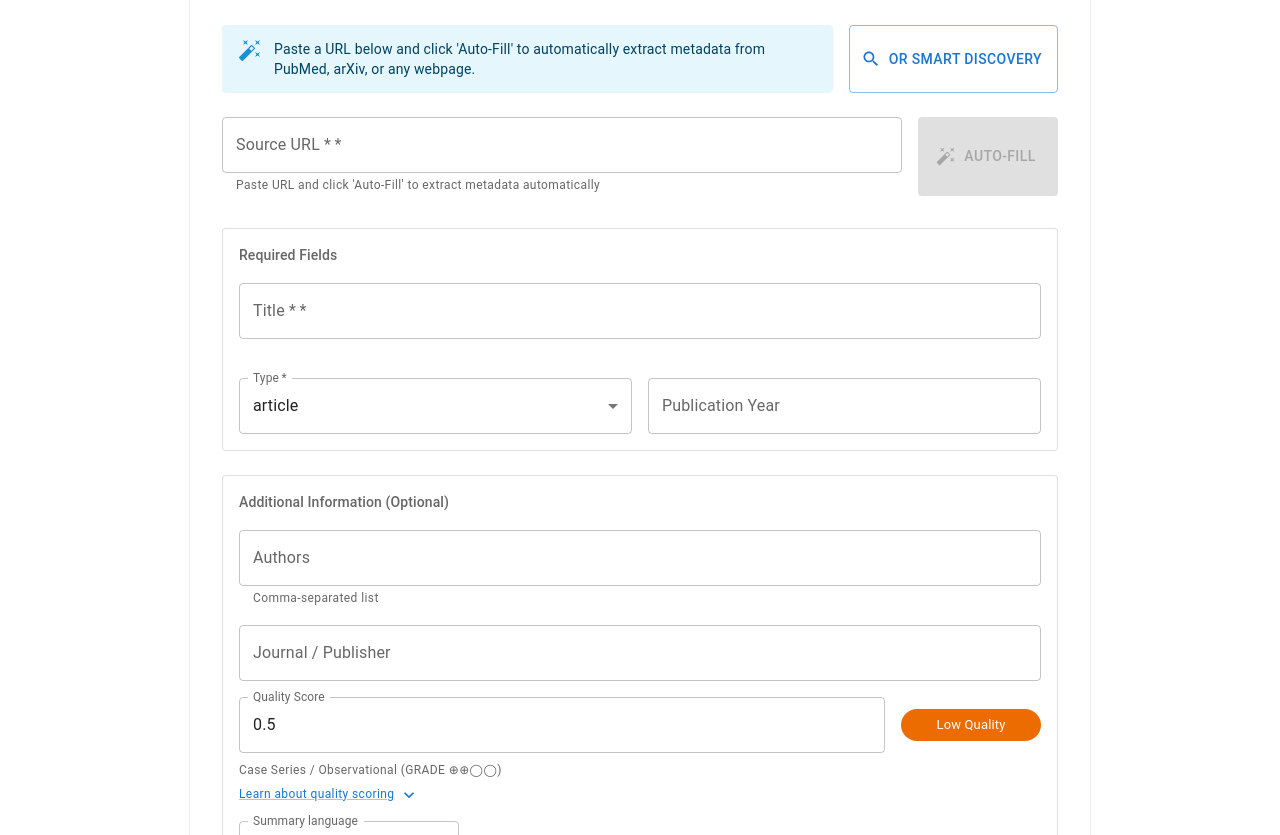
Scenario: CreateSourceView › Form rendering › fills multilingual summaries from URL metadata extraction
Type "https://example.com/article" into the field labelled "Source URL * *" at (562,145), box top-left (222, 117), bottom-right (902, 173)
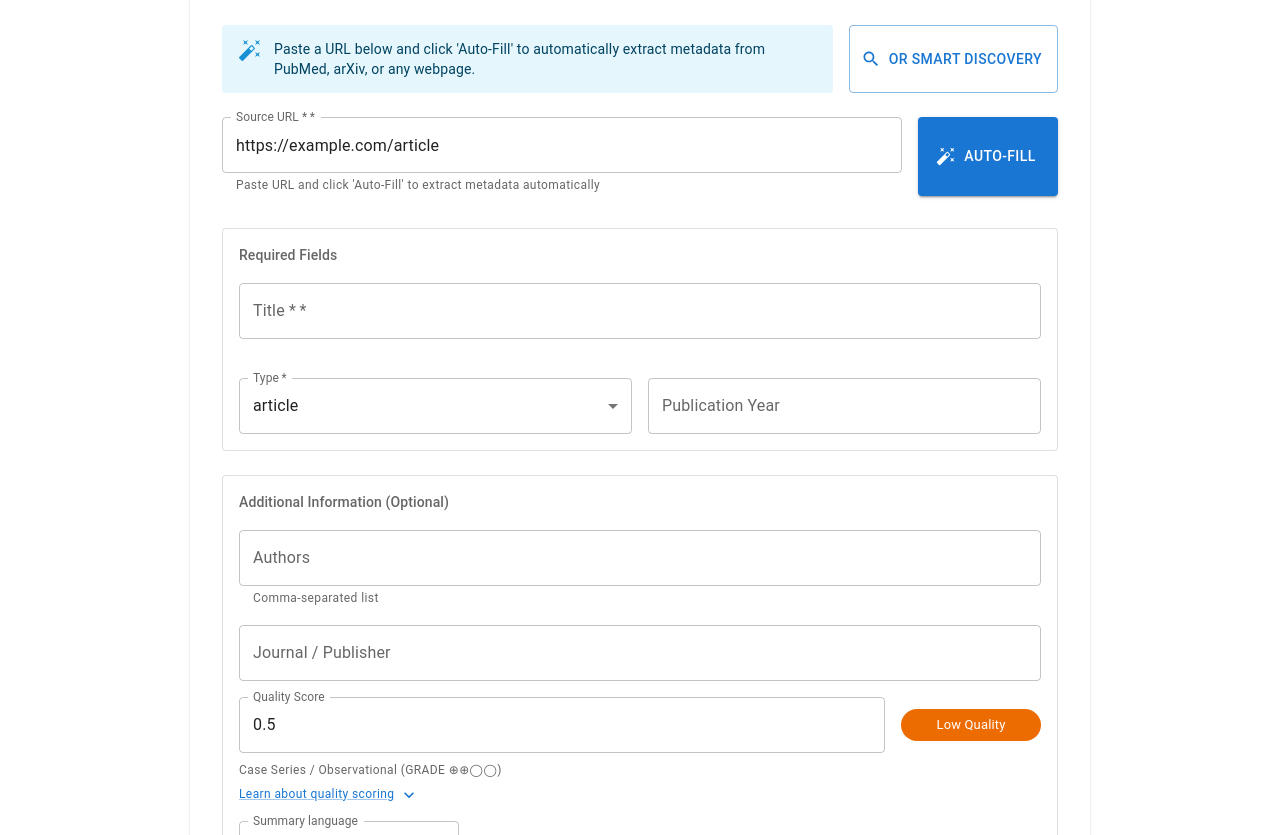
Click the button "Auto-Fill" at (988,156), box top-left (918, 117), bottom-right (1058, 196)
(page scrolled)
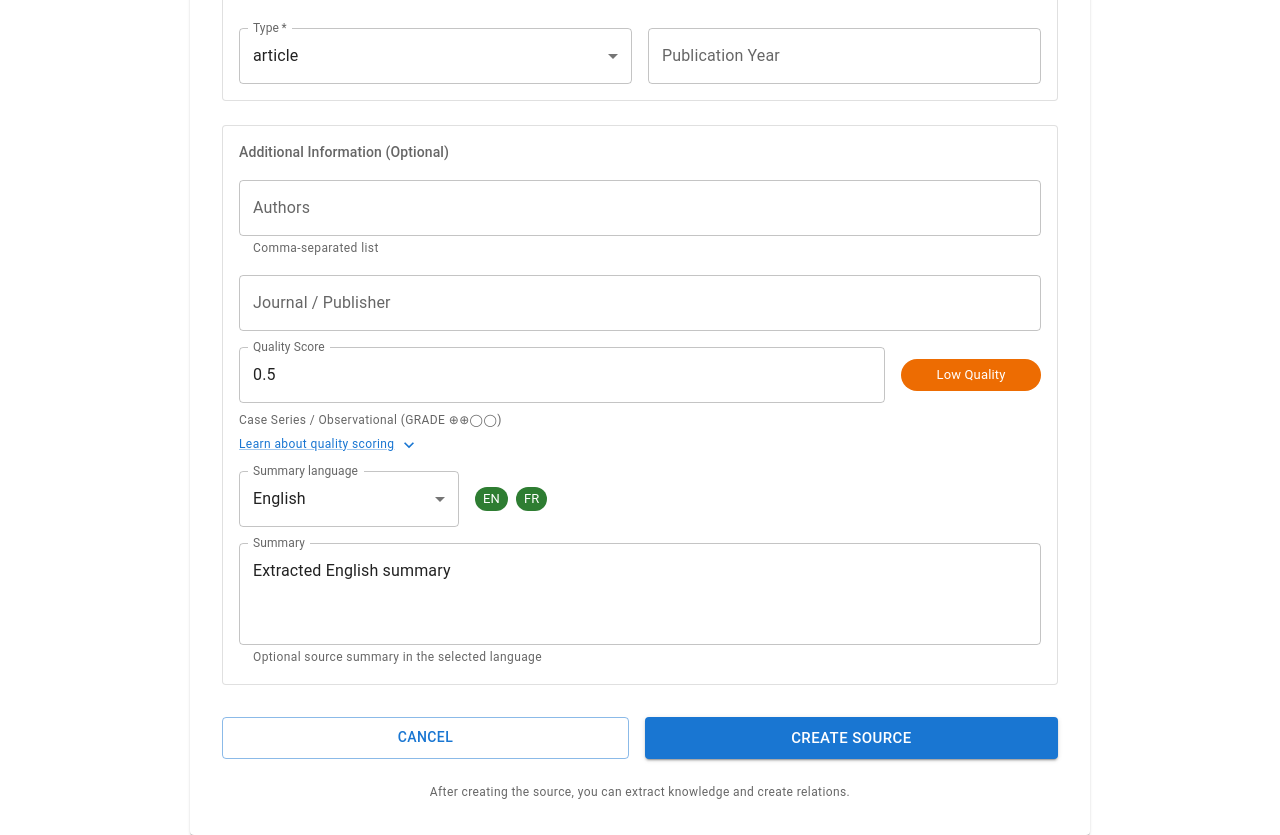
Now the text box labelled "Summary" holds "Extracted English summary", box top-left (253, 559), bottom-right (1027, 628)
Press the mouse on the dropdown named "summary language" at (279,499), box top-left (253, 489), bottom-right (306, 508)
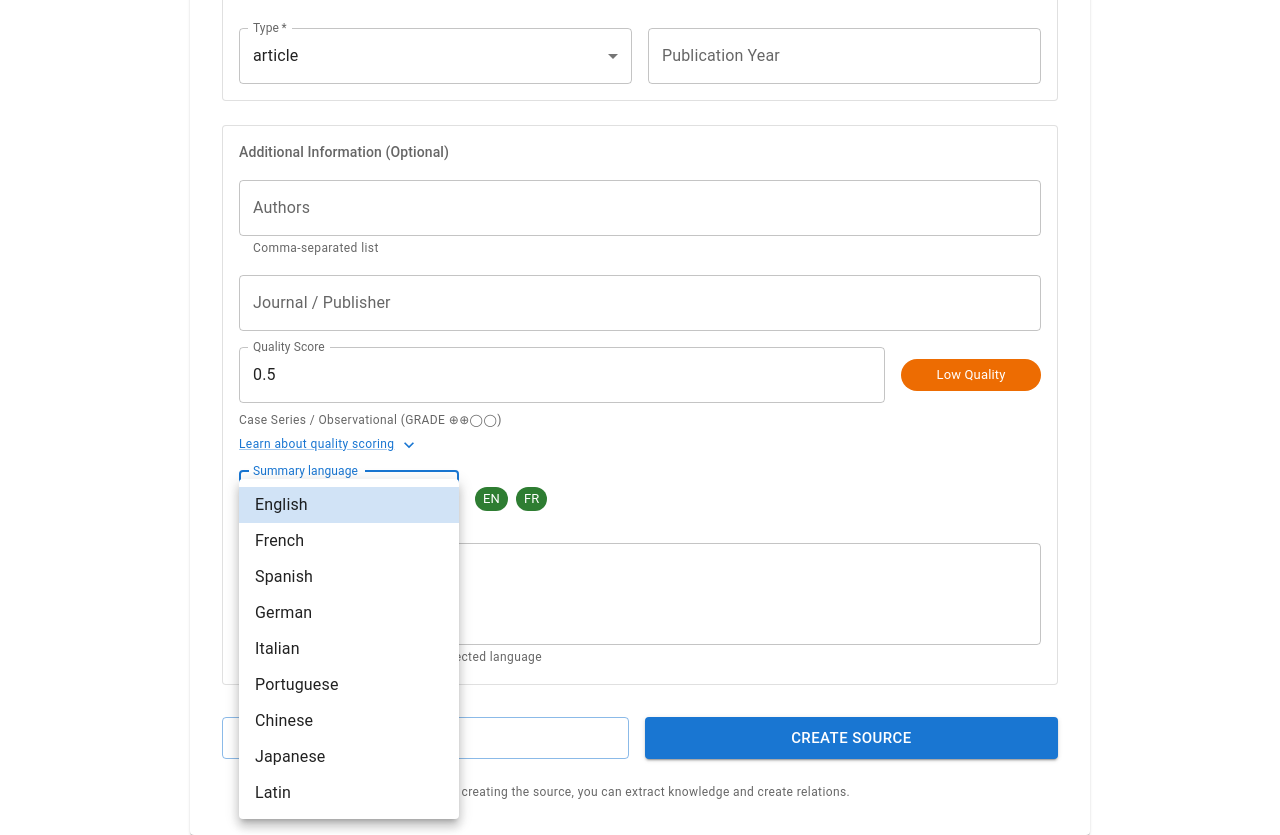
Click the option "French" at (280,540), box top-left (255, 531), bottom-right (304, 550)
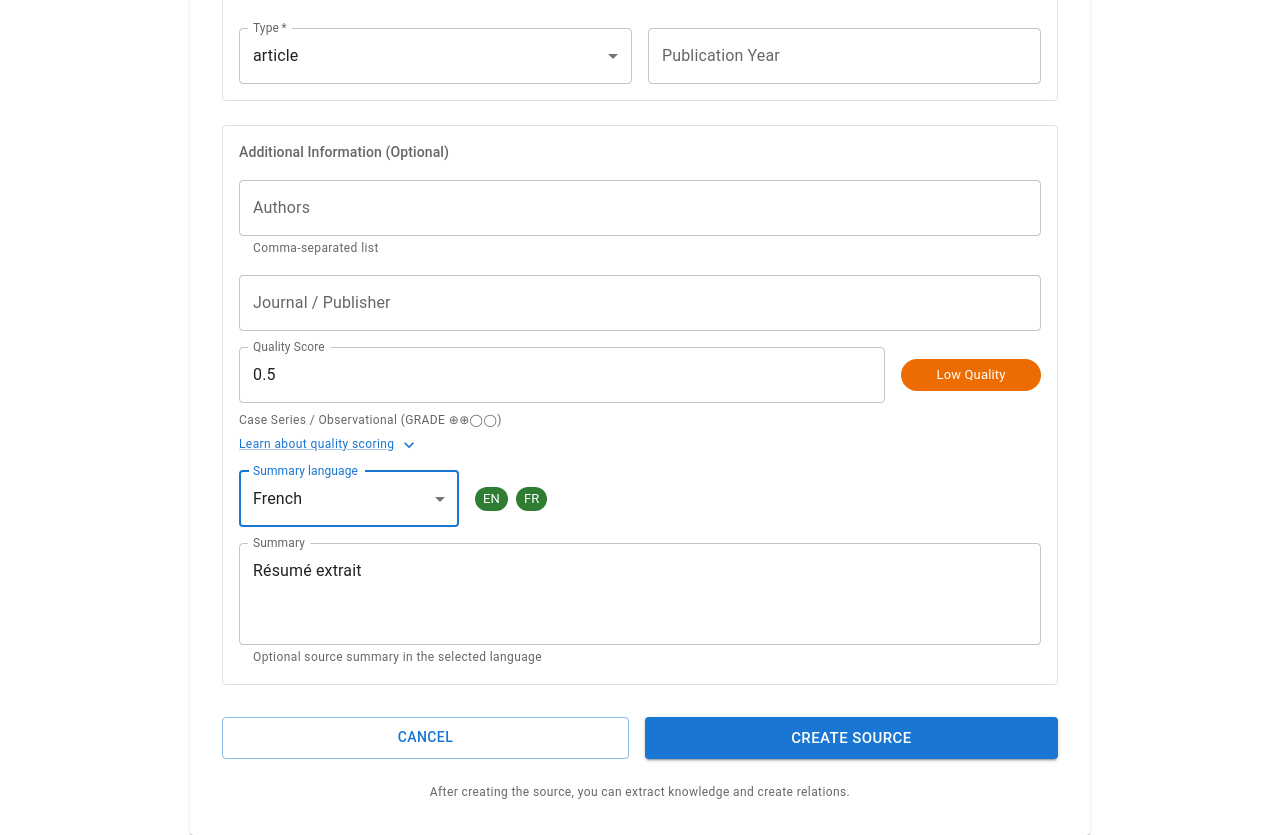
Now the text box labelled "Summary" holds "Résumé extrait", box top-left (253, 559), bottom-right (1027, 628)
